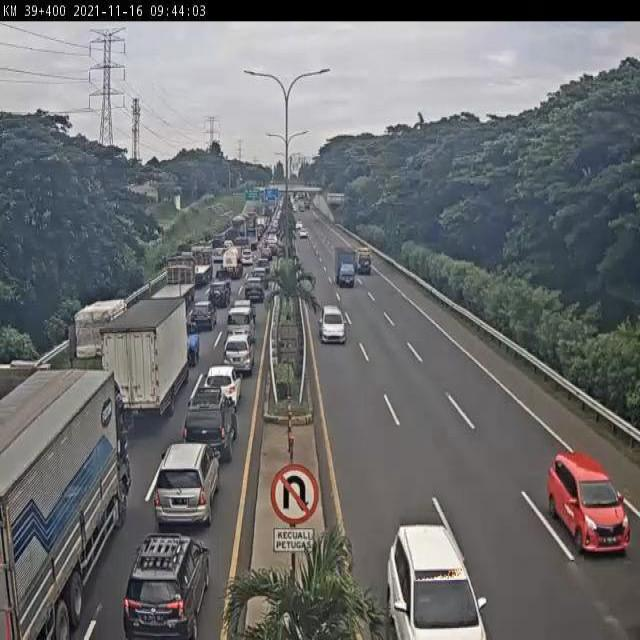car: (386, 522, 489, 640), (545, 445, 634, 563), (164, 437, 217, 511), (187, 383, 236, 457), (206, 357, 243, 404), (225, 330, 255, 378), (322, 300, 350, 349), (184, 316, 203, 368), (191, 298, 218, 334), (230, 305, 256, 339), (202, 280, 233, 304), (245, 277, 264, 311), (252, 266, 271, 294), (234, 299, 256, 316), (257, 252, 272, 276)
small truck: (357, 244, 373, 279)
truck-l-: (0, 366, 130, 640), (161, 253, 198, 307), (185, 244, 214, 295)
truck-m-: (101, 296, 189, 416), (70, 300, 135, 389), (335, 251, 359, 289)
